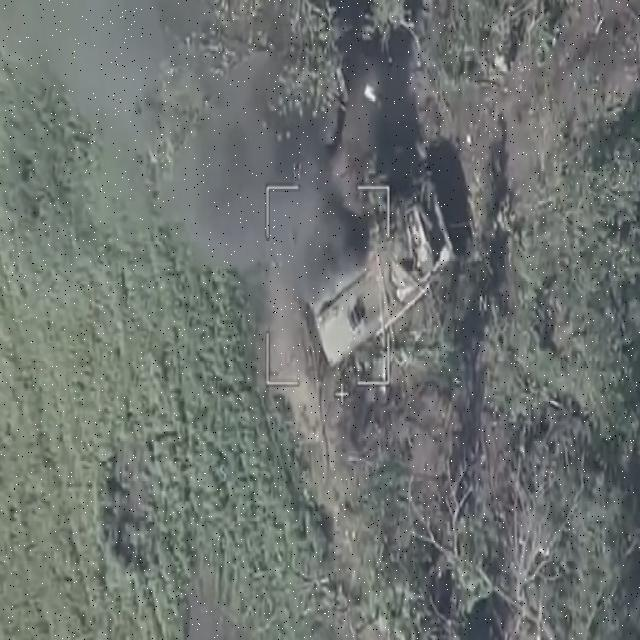ART: (297, 160, 458, 367)
